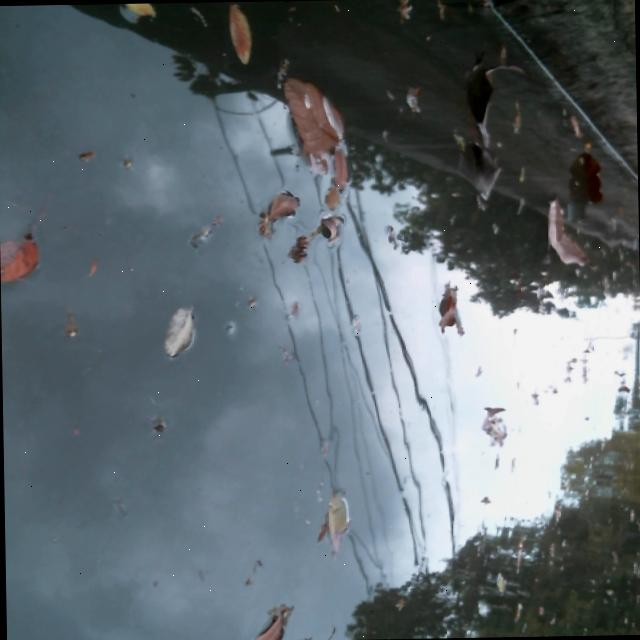Big-leaf: (449, 54, 530, 208), (278, 70, 345, 155), (540, 199, 593, 271), (568, 145, 614, 210)
Small-leaf: (306, 486, 357, 561), (0, 220, 49, 288), (212, 1, 259, 67), (157, 307, 212, 356), (421, 285, 474, 335), (245, 601, 304, 640), (249, 188, 296, 235), (471, 399, 514, 446), (325, 152, 357, 186), (116, 3, 166, 24), (316, 210, 351, 240), (283, 235, 320, 262), (399, 80, 425, 118), (390, 0, 416, 27), (610, 368, 634, 396), (317, 186, 347, 208)
